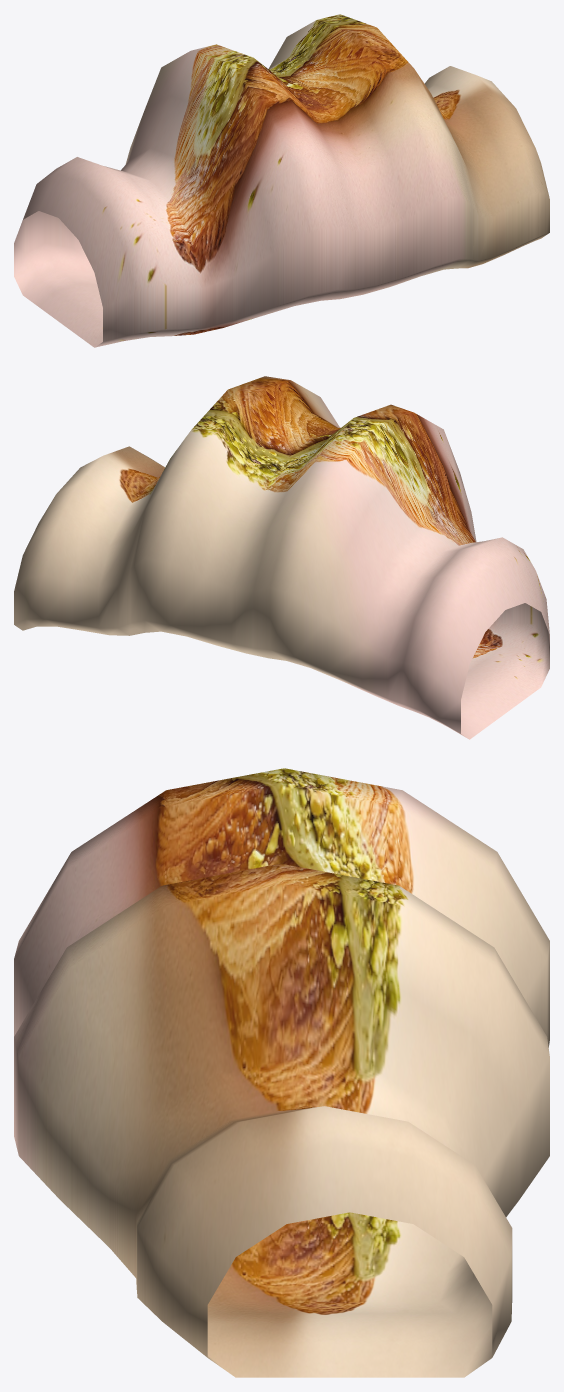
File: prop_croissant_pistachio.glb
3 views of the same model, one above another, from view 1: azimuth 30°, elevation 25°; view 2: azimuth 150°, elevation 25°; view 3: azimuth 270°, elevation 25° (orthographic). The views are drawn at different scales.
Visible parts, largest first — view 1: prop_croissant_pistachio; view 2: prop_croissant_pistachio; view 3: prop_croissant_pistachio.
Part boxes in pixels (bbox=[...]): prop_croissant_pistachio: bbox=[14, 14, 549, 347]; prop_croissant_pistachio: bbox=[14, 376, 549, 739]; prop_croissant_pistachio: bbox=[14, 768, 549, 1377].
Bounding box in the file's own units: 0.1298 × 0.0659 × 0.0844.
Materials: 1 (1 with a texture image).
